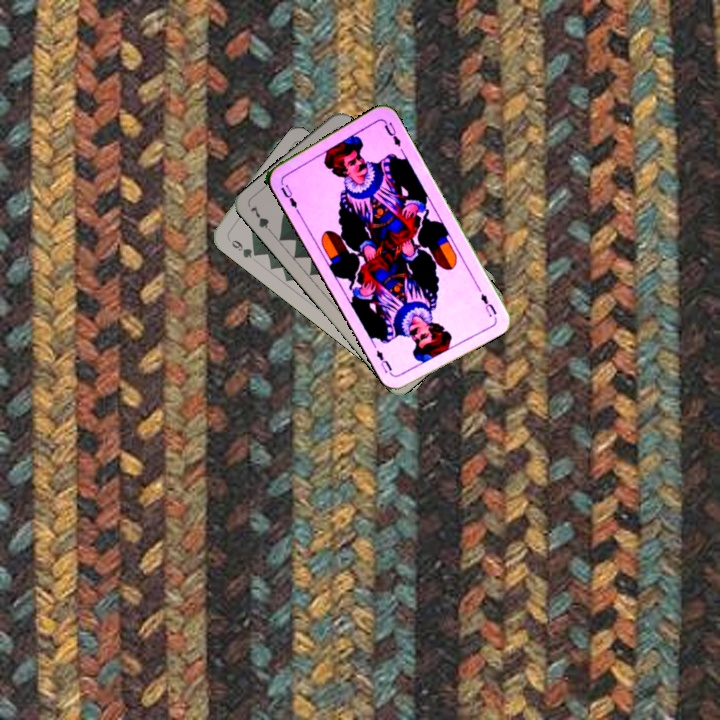EU: (277, 180, 302, 216), (477, 289, 500, 319)
G7: (246, 201, 276, 238)
G9: (224, 234, 261, 261)
